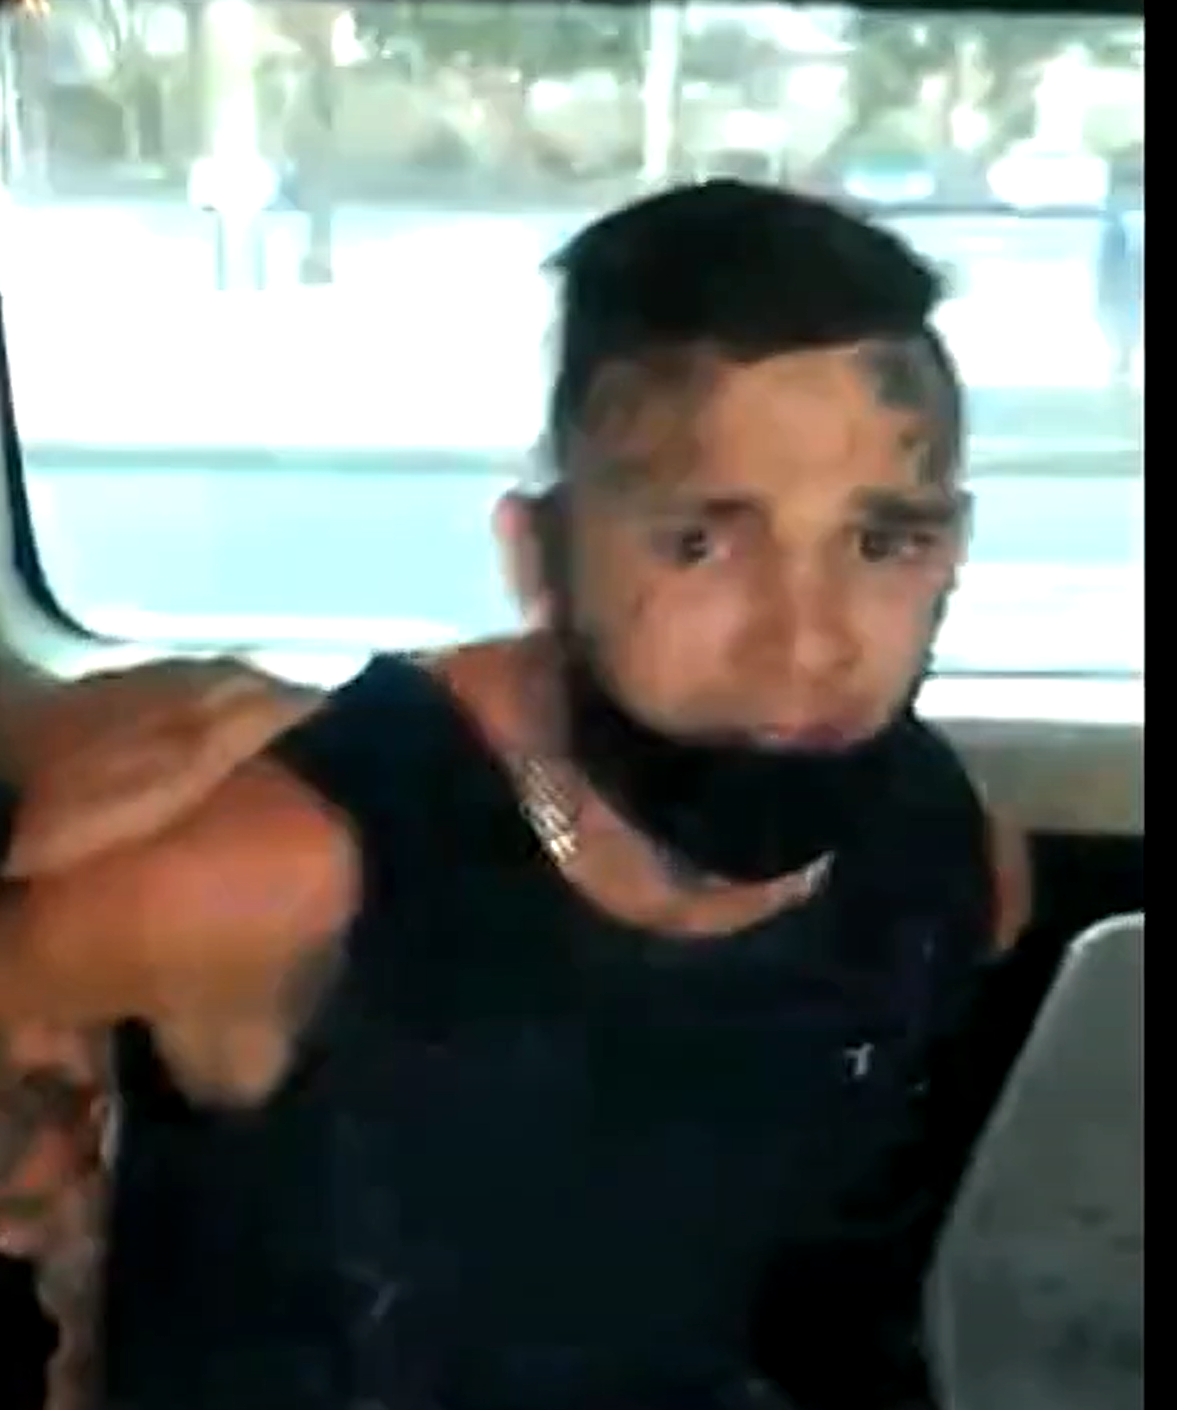mask_weared_incorrect: (468, 260, 1017, 931)
